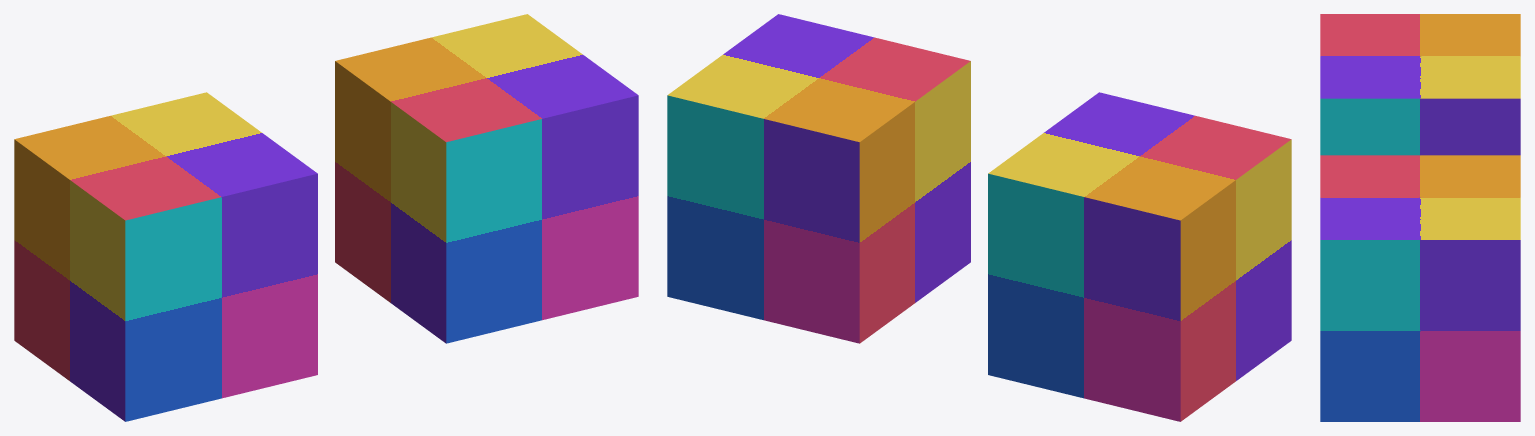
3 views of the same model, side by side, from view 1: azimuth 30°, elevation 25°; view 2: azimuth 150°, elevation 25°; view 3: azimuth 270°, elevation 25° (orthographic). The views are drawn at different scales.
Parts seen in each view (by area): view 1: TexturedCube-1, TexturedCube-0; view 2: TexturedCube-1, TexturedCube-0; view 3: TexturedCube-0, TexturedCube-1.
Part boxes in pixels (x1,y1,x2,y2): TexturedCube-1: [14, 14, 637, 421]; TexturedCube-0: [125, 95, 638, 421]; TexturedCube-1: [668, 14, 1291, 421]; TexturedCube-0: [667, 95, 1180, 421]; TexturedCube-0: [1320, 98, 1520, 421]; TexturedCube-1: [1320, 14, 1520, 239].
Size of the model in its own units: 4.8 by 1.8 by 1.8.
2 materials, 2 textured.
